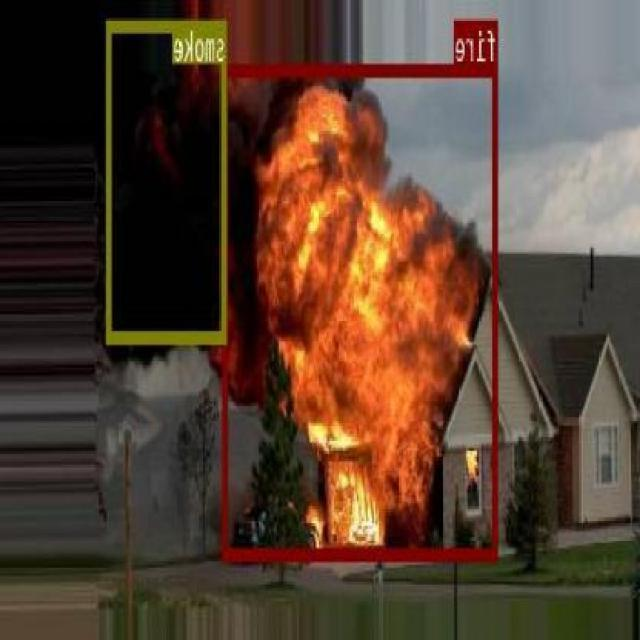Fire: (225, 84, 483, 548)
Smoke: (110, 10, 232, 352)
